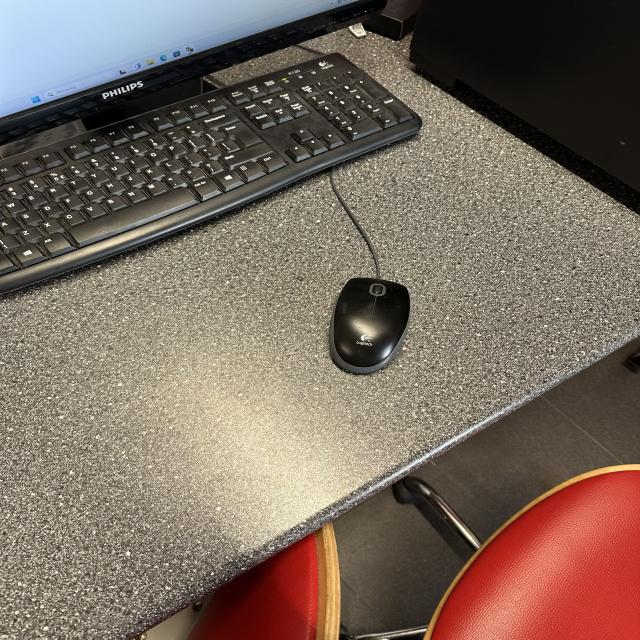mysz: (326, 271, 415, 380)
